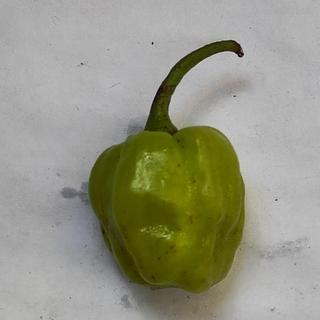Grade-B: (86, 123, 249, 291)
